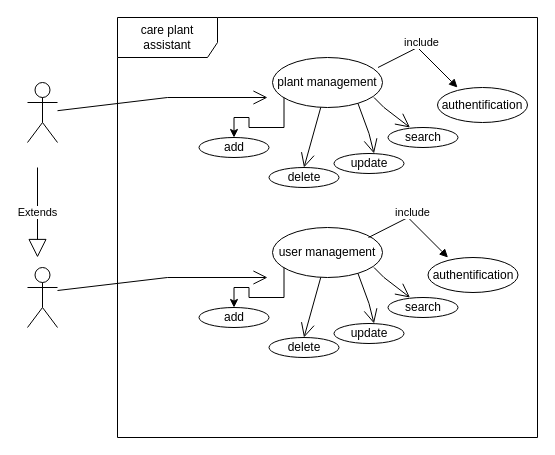
The diagram is 555 pixels wide and 455 high, and some of its shapes have lost their labels. Each missing label, with the centre of its shape:
admin: [42,297]
user: [42,112]
